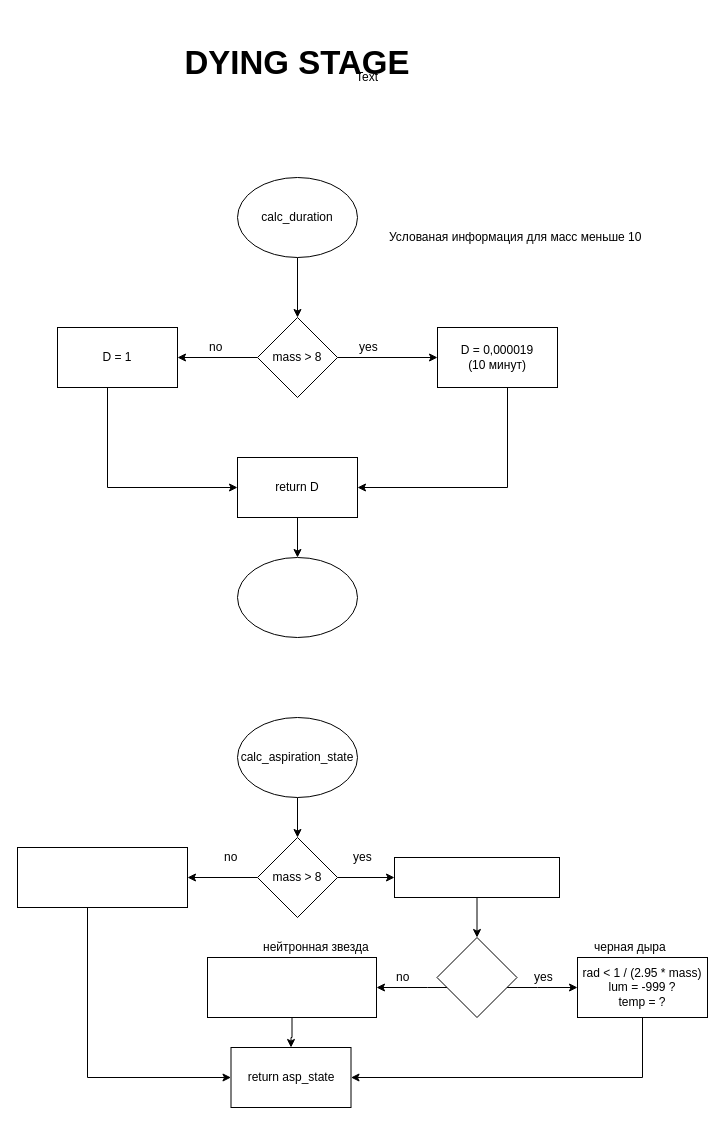
Image size: 725x1125. Some labels were removed from this diagram. The box of each missing label's shape, as (x1, y1, x2, y2) in pixels:
end: (236, 556, 358, 638)
mass *= 0.7 rad = random(0.009, 0.011) temp = random(10000, 25000) lum *= 1.1: (16, 846, 188, 908)
mass = random(1.38, 3): (394, 856, 560, 898)
mass > 2.5: (436, 936, 517, 1018)
rad = +-1/34775 temp = random(25000, 35000): (206, 956, 376, 1018)
